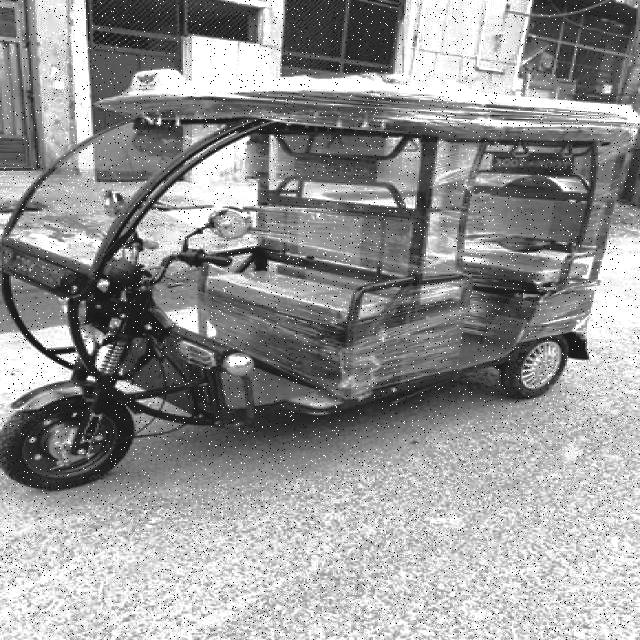Toto: (5, 78, 639, 491)
